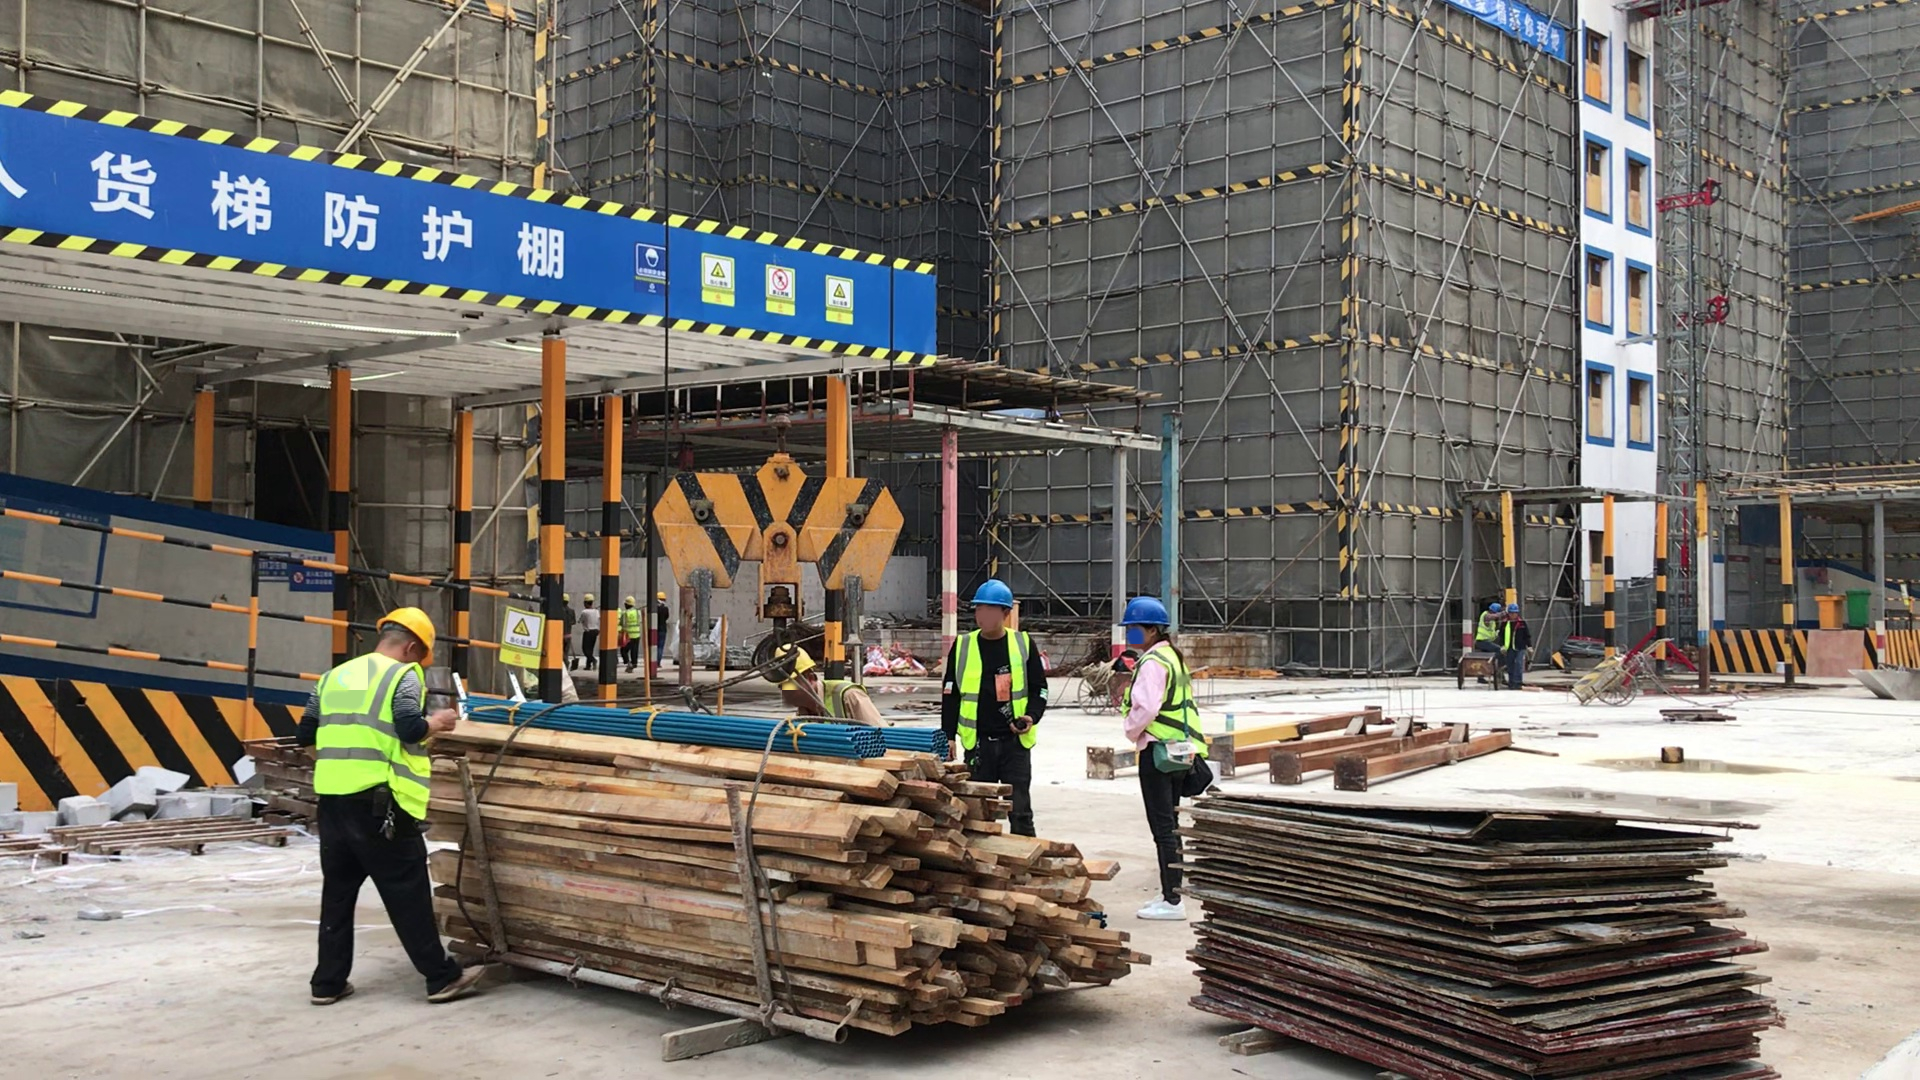board: (1177, 757, 1766, 1080)
handcart: (1574, 631, 1688, 708)
helmet: (378, 608, 437, 652), (1119, 597, 1171, 629), (970, 577, 1012, 609), (1486, 602, 1500, 614), (625, 594, 635, 607), (582, 592, 594, 602), (655, 591, 666, 602), (1507, 604, 1519, 613), (563, 593, 571, 602)
hook: (644, 458, 906, 597)
hopper: (1849, 650, 1920, 711)
person: (298, 601, 479, 1030), (1106, 594, 1210, 917), (943, 575, 1056, 838), (760, 645, 897, 730), (1505, 603, 1532, 690), (621, 595, 642, 674), (1474, 601, 1504, 654), (579, 594, 597, 670), (558, 594, 576, 668), (656, 591, 670, 669)
slogan: (1432, 1, 1573, 64)
vest: (313, 651, 430, 816), (954, 624, 1039, 761), (1140, 650, 1210, 760), (827, 677, 871, 723), (621, 607, 641, 639), (1477, 612, 1496, 642)
wood: (432, 668, 1156, 1057)
